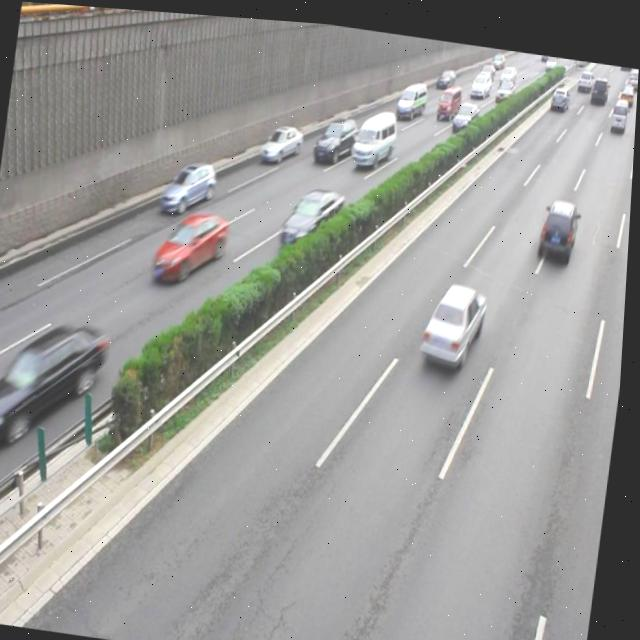car: (0, 311, 114, 451), (152, 201, 233, 288), (420, 271, 489, 361), (280, 177, 347, 250), (160, 153, 220, 215), (537, 186, 581, 259), (313, 107, 360, 164), (260, 116, 305, 164)
truck: (349, 101, 399, 165)
